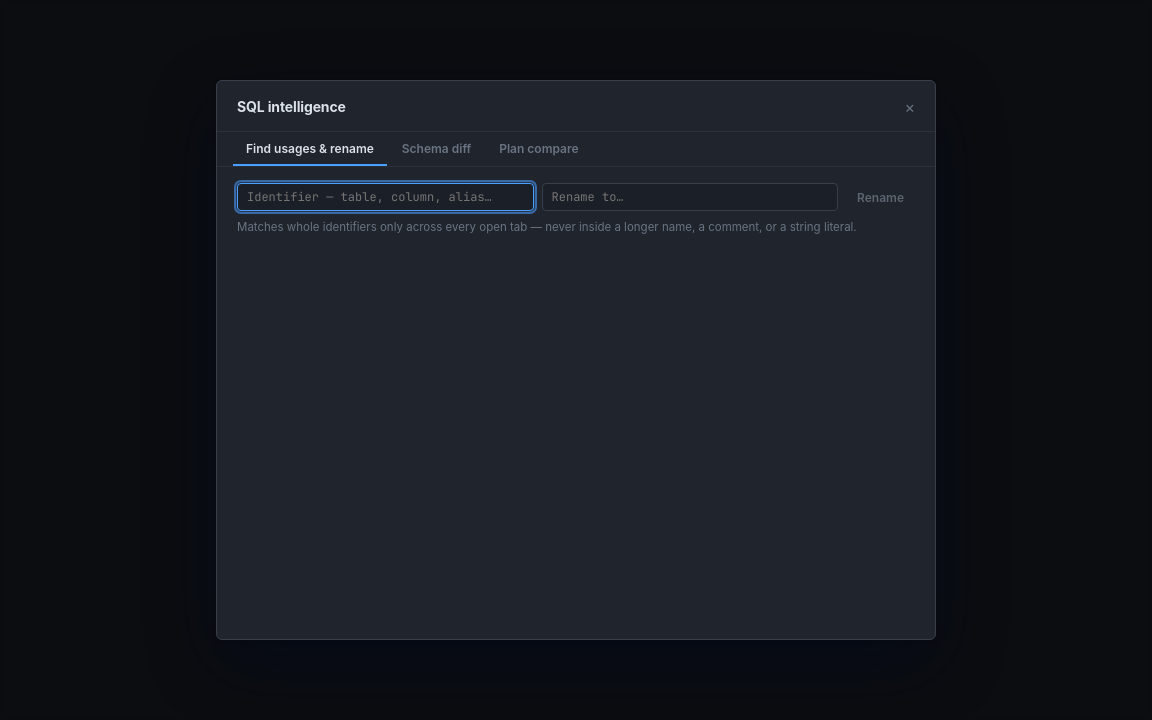
Test case: IntelModal — schema diff › reports identical schemas rather than an empty list
Click the button "Schema diff" at {"x": 436, "y": 149}, box [389,132,484,166]
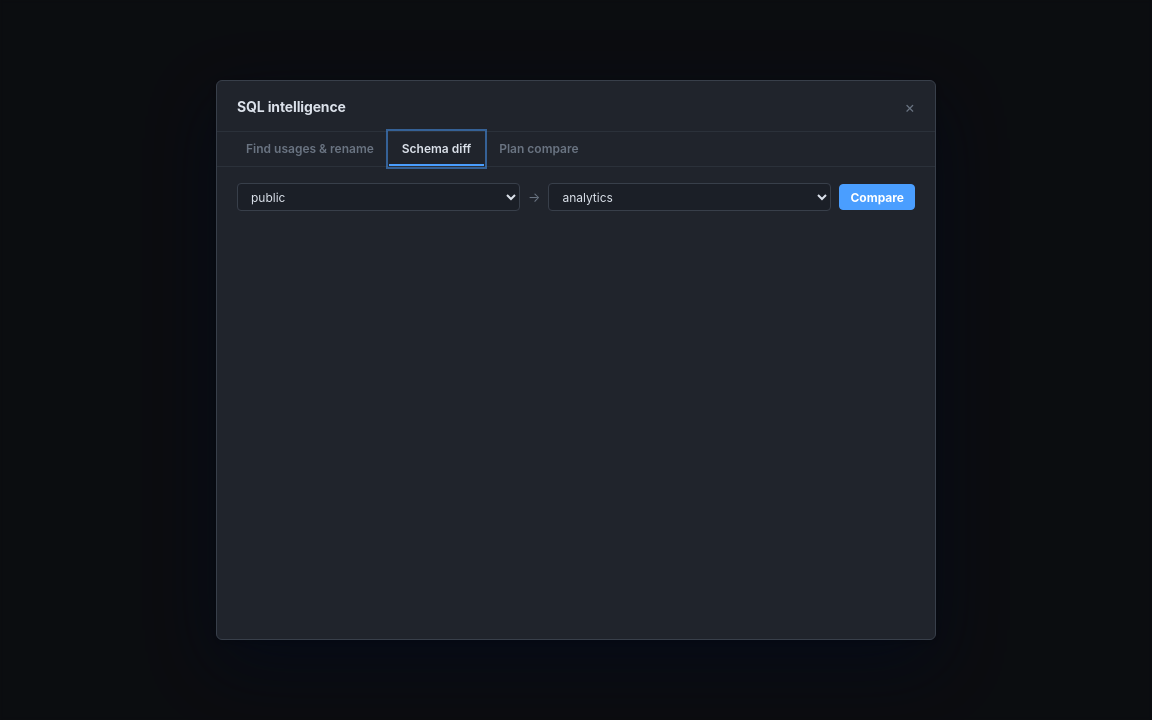
Click the button "Compare" at {"x": 877, "y": 197}, box [839,184,915,210]
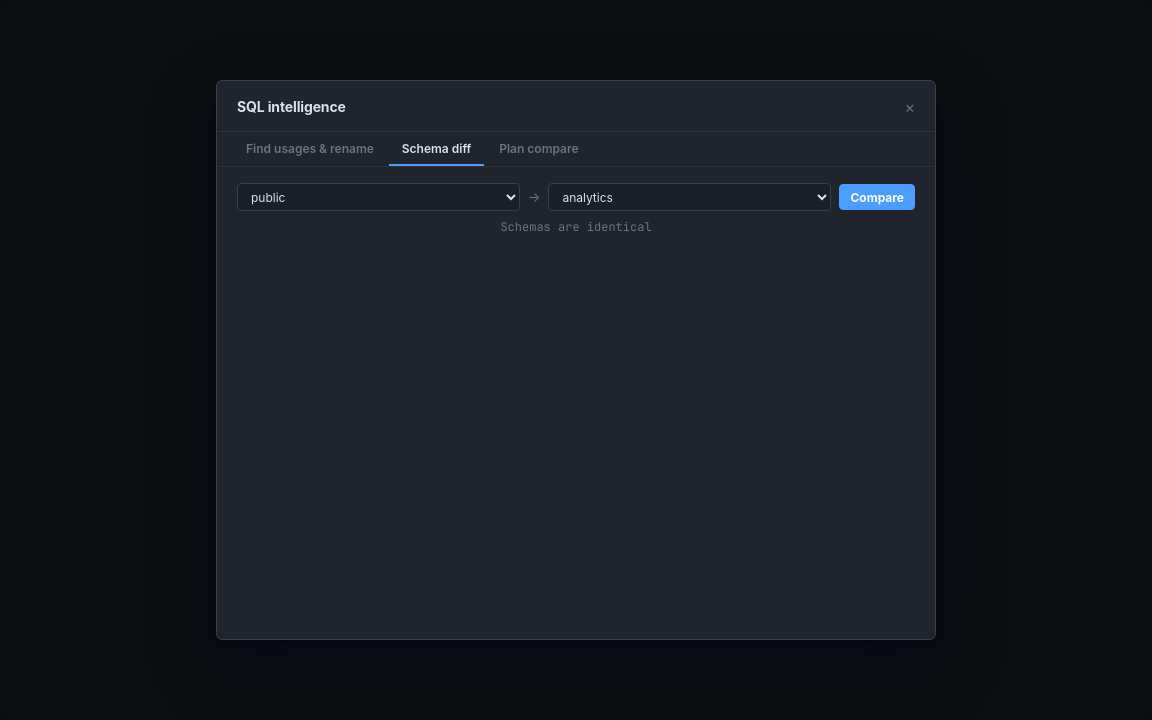
Check: the text "Schemas are identical" is shown, box [500,219,652,235]
